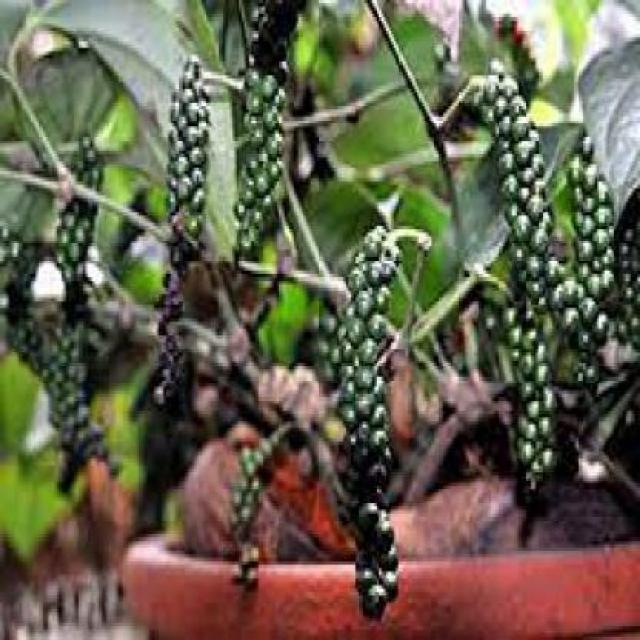UNRIPE: (493, 96, 555, 487), (149, 58, 223, 359), (351, 222, 408, 596), (42, 144, 107, 462), (240, 6, 306, 212), (571, 127, 617, 336)
